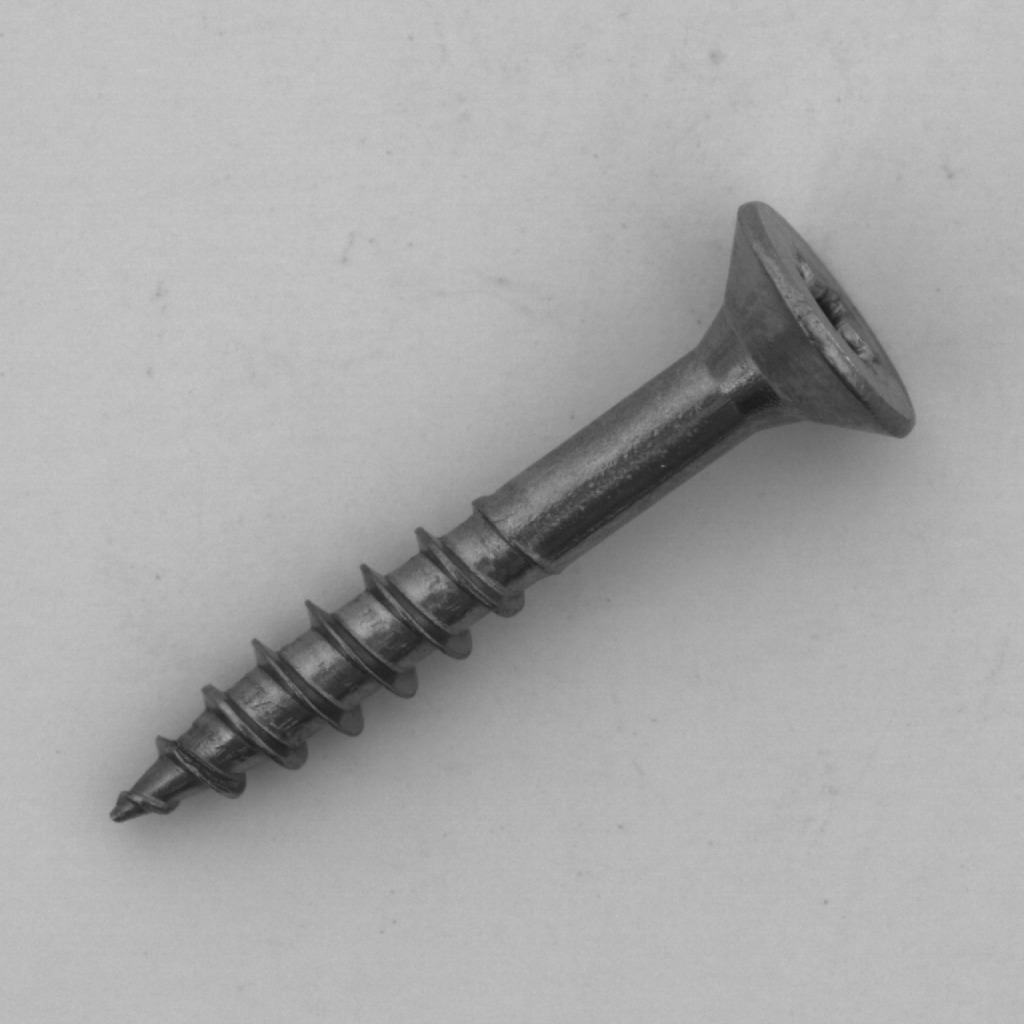good: (88, 186, 926, 847)
